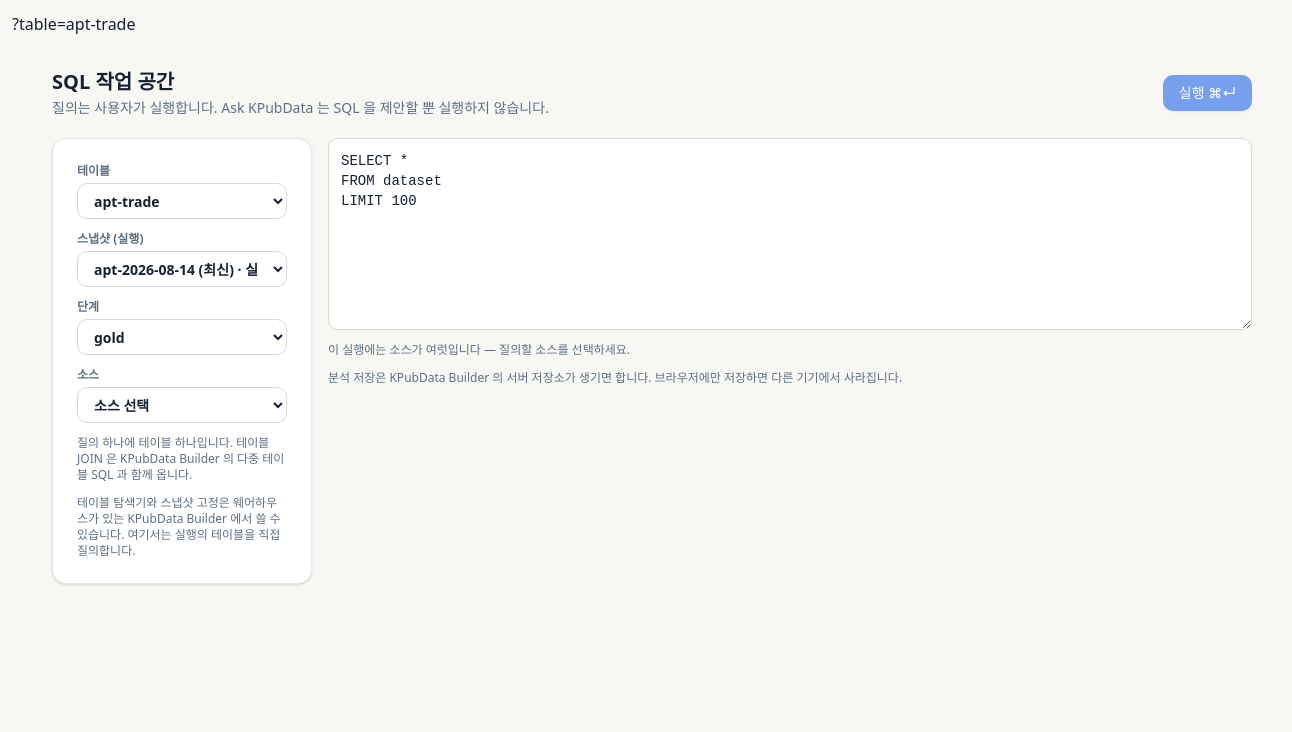
Test case: SQL Workspace (#417) › asks which source when the run has several, and names the snapshot it read
Check: the button "실행 ⌘↵" is disabled, box [1163,75,1252,111]
Select "datago__trade" in the dropdown labelled "소스". click: (182, 405)
box: [77,387,287,423]
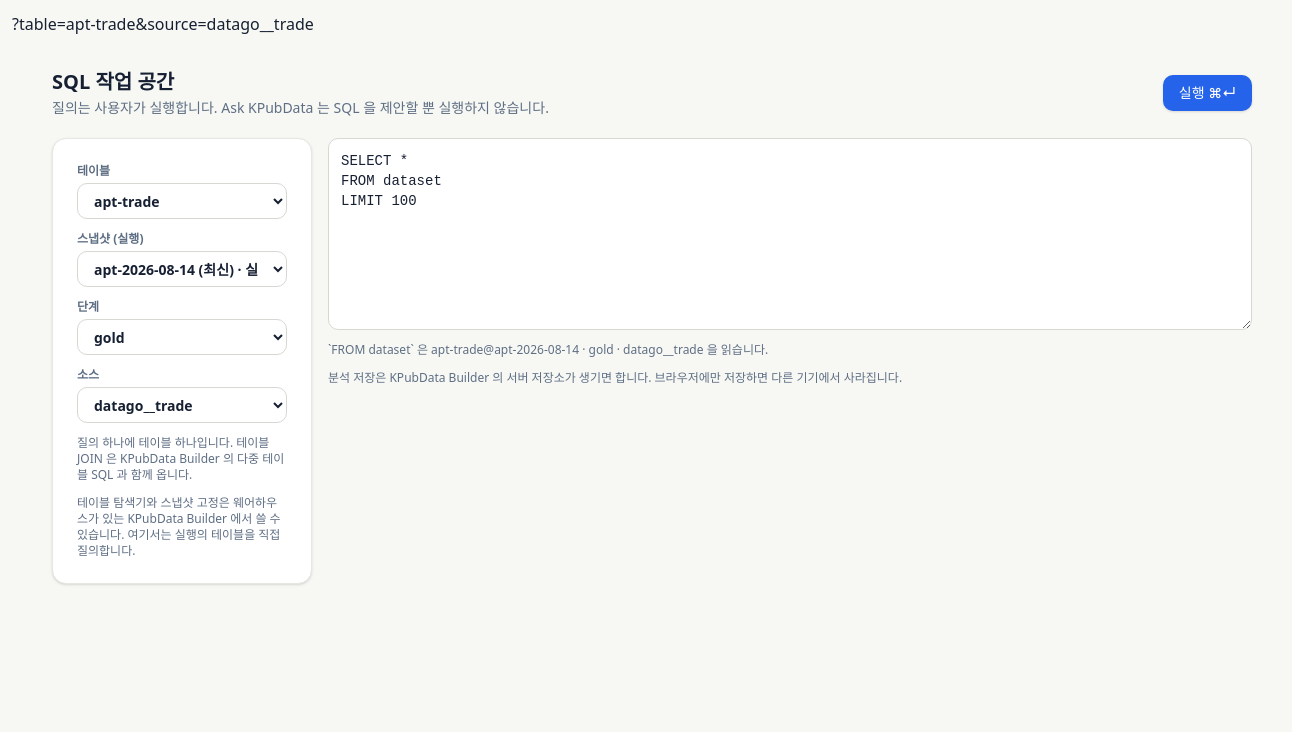
Check: the text with test id "where" shows "source=datago__trade", box [12,13,314,35]
Click the button "실행 ⌘↵". click: (1207, 93)
box: [1163,75,1252,111]
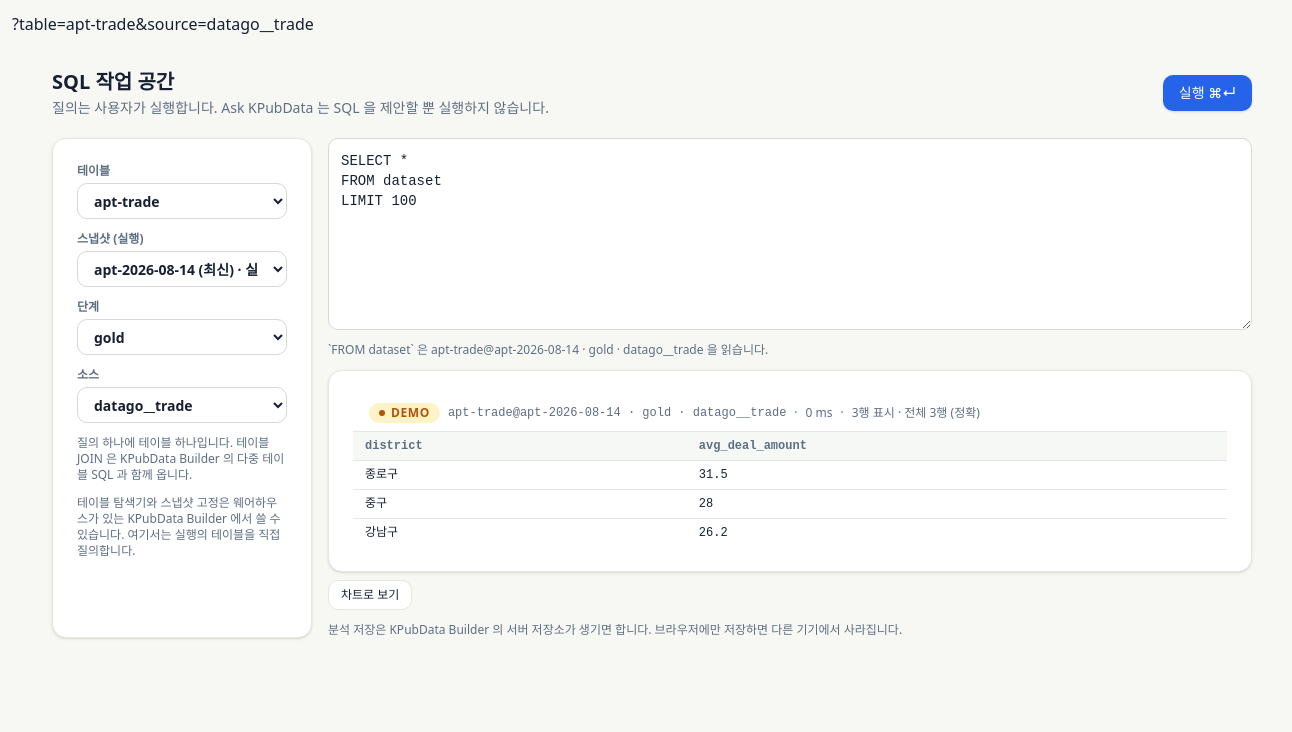
Check: the table is shown, box [353,432,1227,547]
Check: the text "apt-trade@apt-2026-08-14 · gold · datago__trade" is shown, box [448,405,786,421]
Check: the text "DEMO" is shown, box [369,403,440,423]
